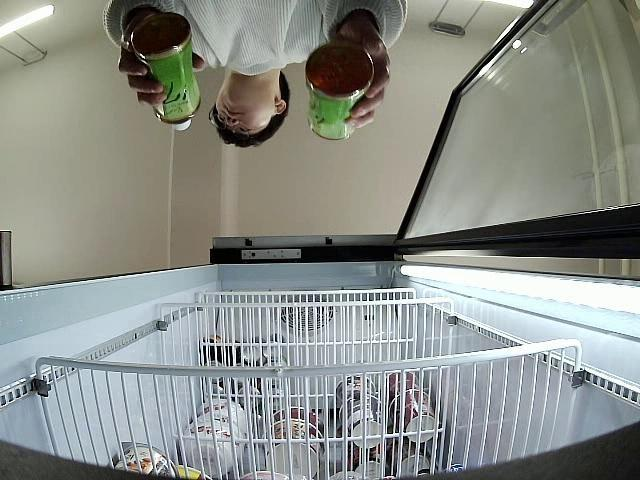19_17cha: (130, 12, 202, 132), (306, 42, 374, 139)
